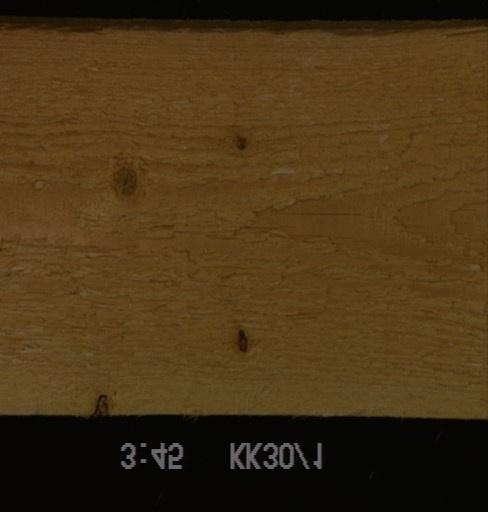dry_knot: (235, 328, 248, 354)
edge_knot: (91, 394, 112, 416)
small_knot: (231, 134, 247, 152)
sound_knot: (106, 155, 143, 203)
wave: (0, 18, 487, 51)
